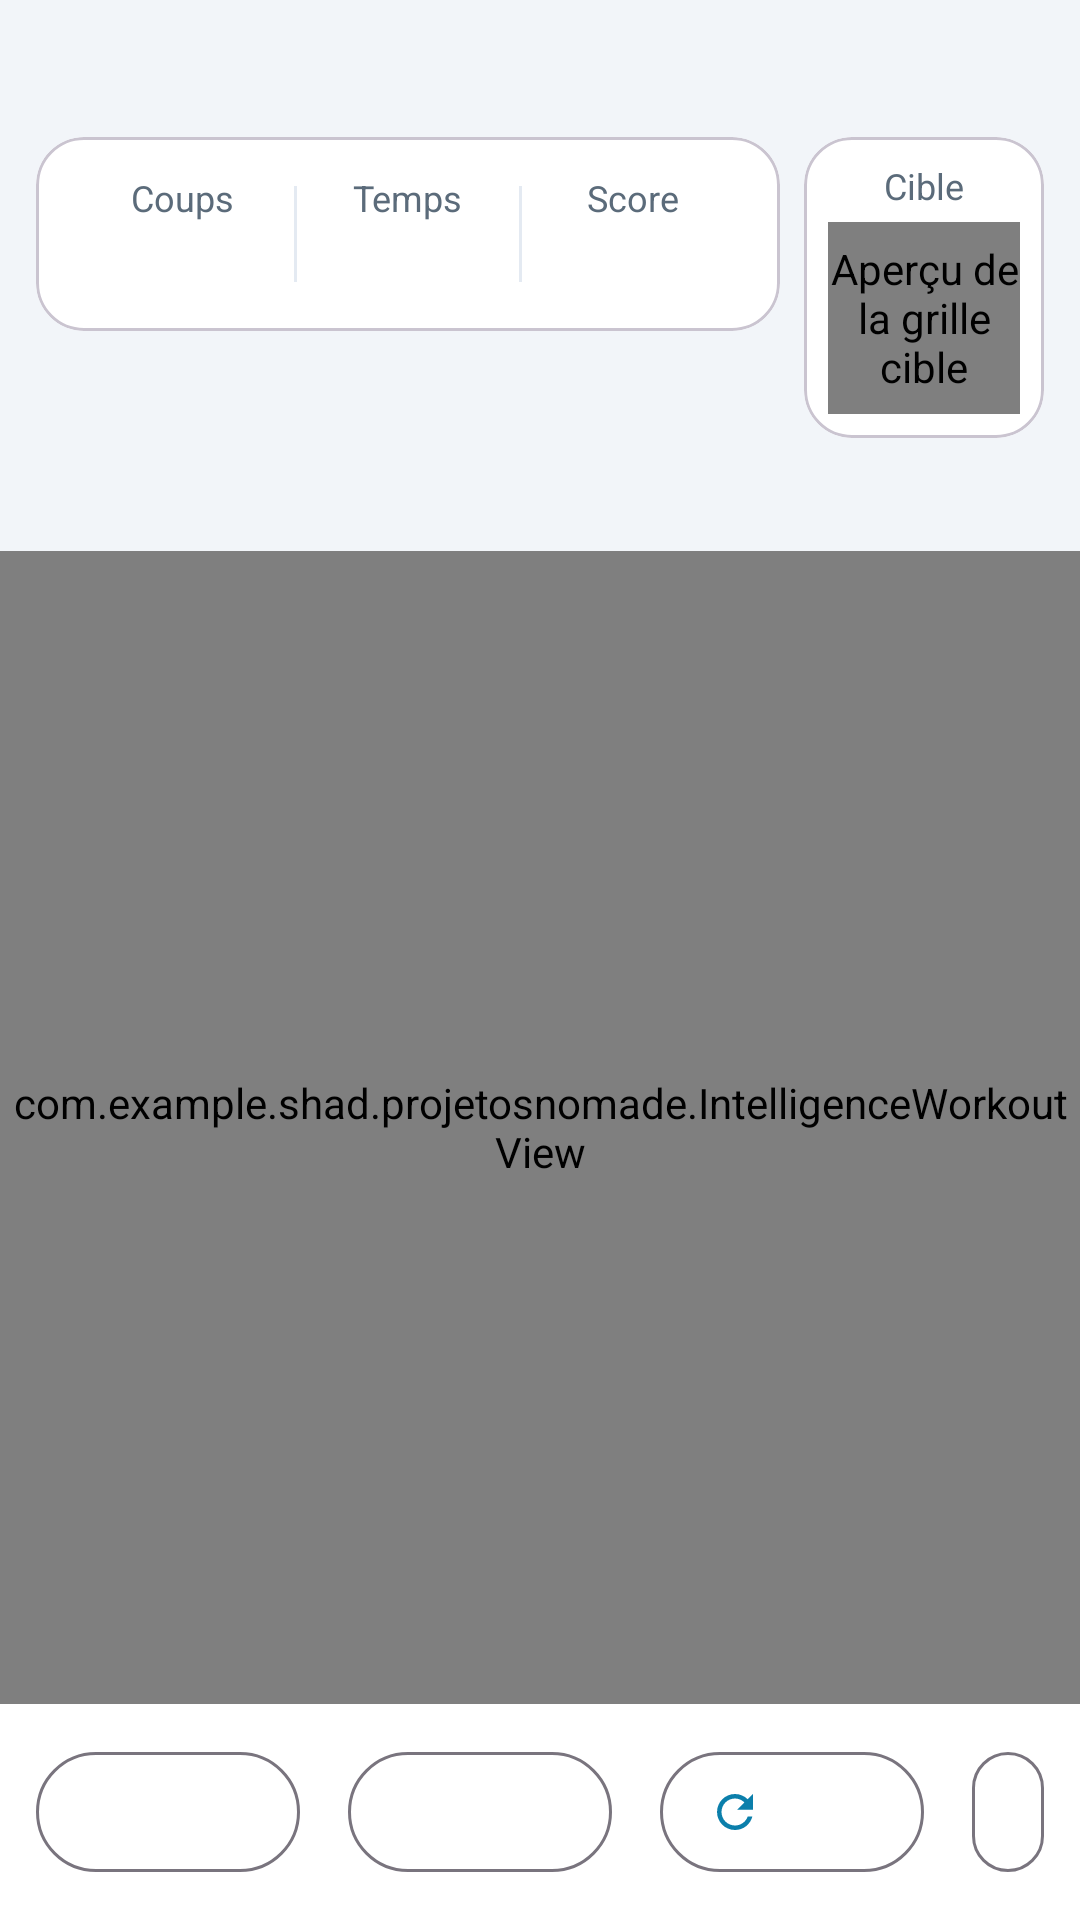

Icon click points for this 1080px x 1920px phone screenshot, format (x=x, y=y):
Réinitialiser la grille: (x=792, y=1812)
